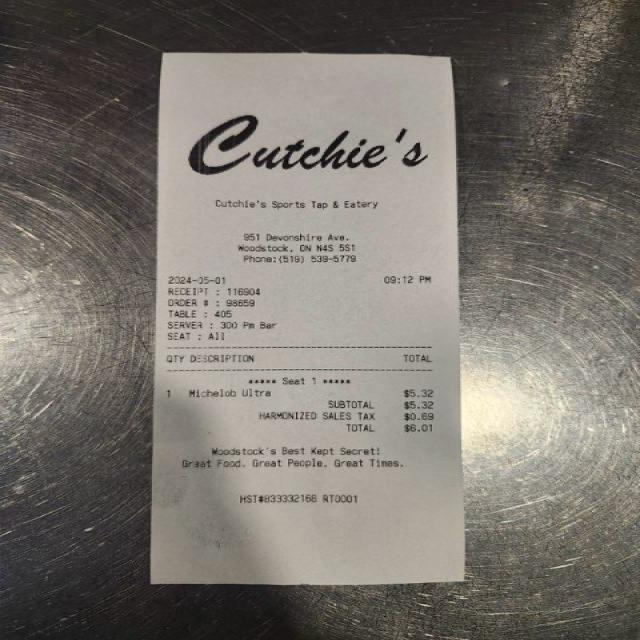item: (178, 384, 443, 402)
store_name: (212, 194, 385, 215)
total_amount: (339, 419, 443, 439)
transaction_date: (162, 271, 234, 289)
